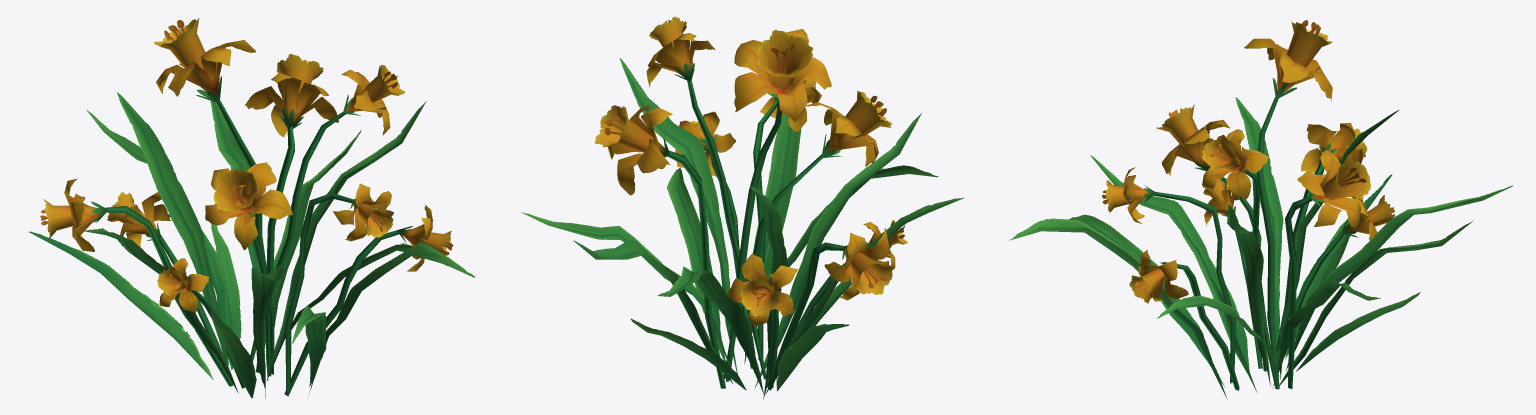
Rendered from MSH_FWOF_Flower_Large_A_02.fbx.
The picture shows the model from 3 angles, left to right: view 1: azimuth 30°, elevation 25°; view 2: azimuth 150°, elevation 25°; view 3: azimuth 270°, elevation 25°; orthographic projection. The views are drawn at different scales.
Parts seen in each view (by area): view 1: MSH_FWOF_Flower_Large_A_02; view 2: MSH_FWOF_Flower_Large_A_02; view 3: MSH_FWOF_Flower_Large_A_02.
Boxes of the visible parts, x1,y1,x2,y2 form: MSH_FWOF_Flower_Large_A_02: (29, 18, 475, 398); MSH_FWOF_Flower_Large_A_02: (521, 16, 964, 399); MSH_FWOF_Flower_Large_A_02: (1009, 20, 1512, 399).
Bounding box in the file's own units: 0.7842 × 0.7789 × 1.04.
